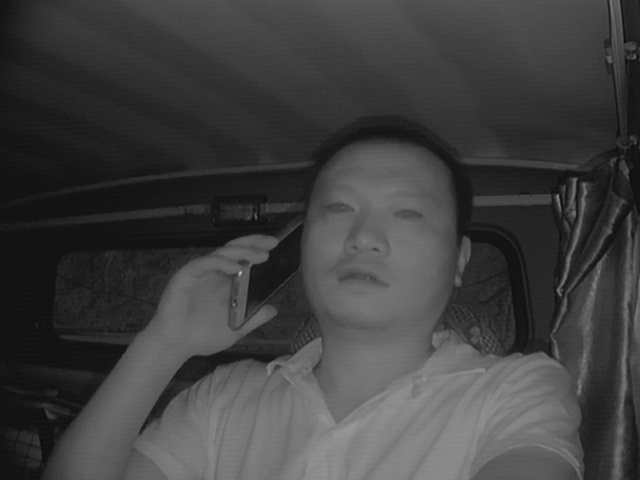hand: (162, 233, 276, 353)
